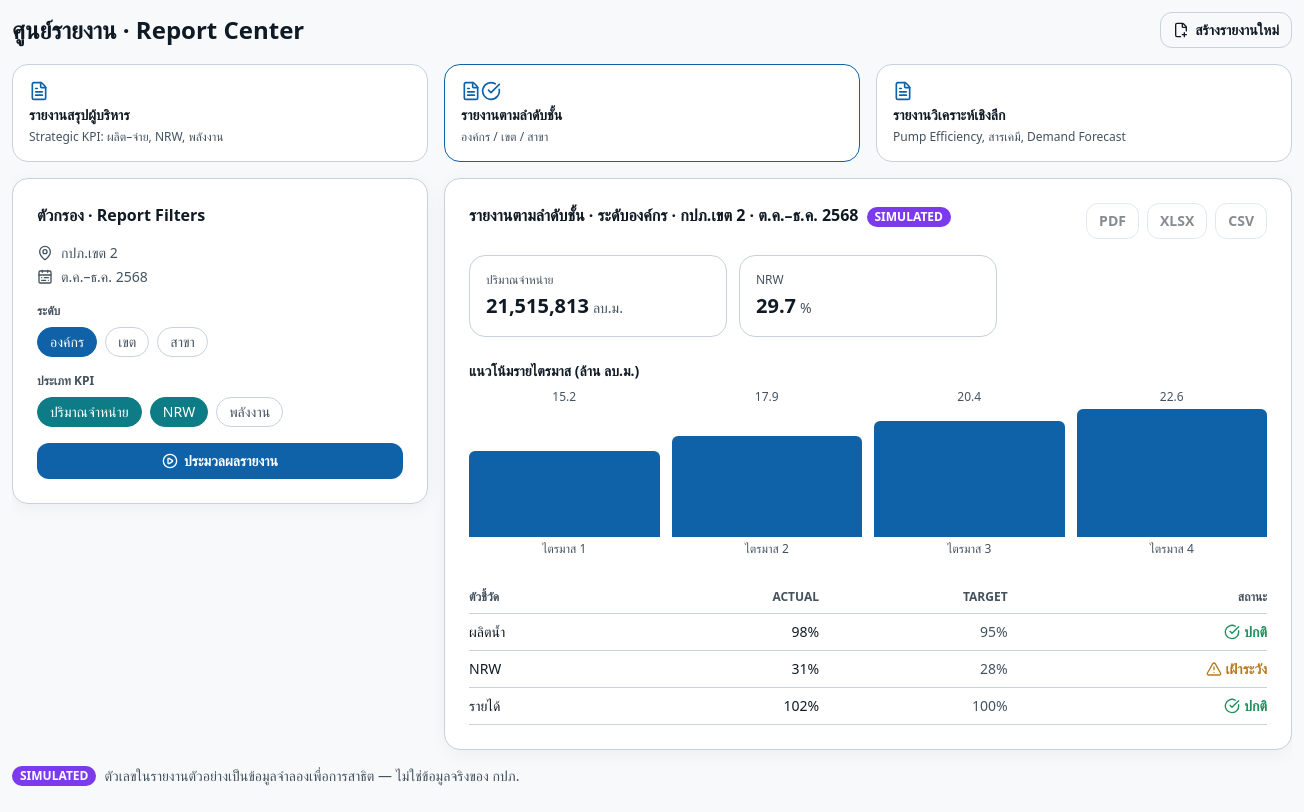
Scenario: ReportCenterScreen › holds a level change pending, then reflects it in the report header on generate
Expected: the heading "ระดับองค์กร" is shown, [469,203,951,227]
Click the radio button labelled "สาขา": (183, 342) [157,327,208,357]
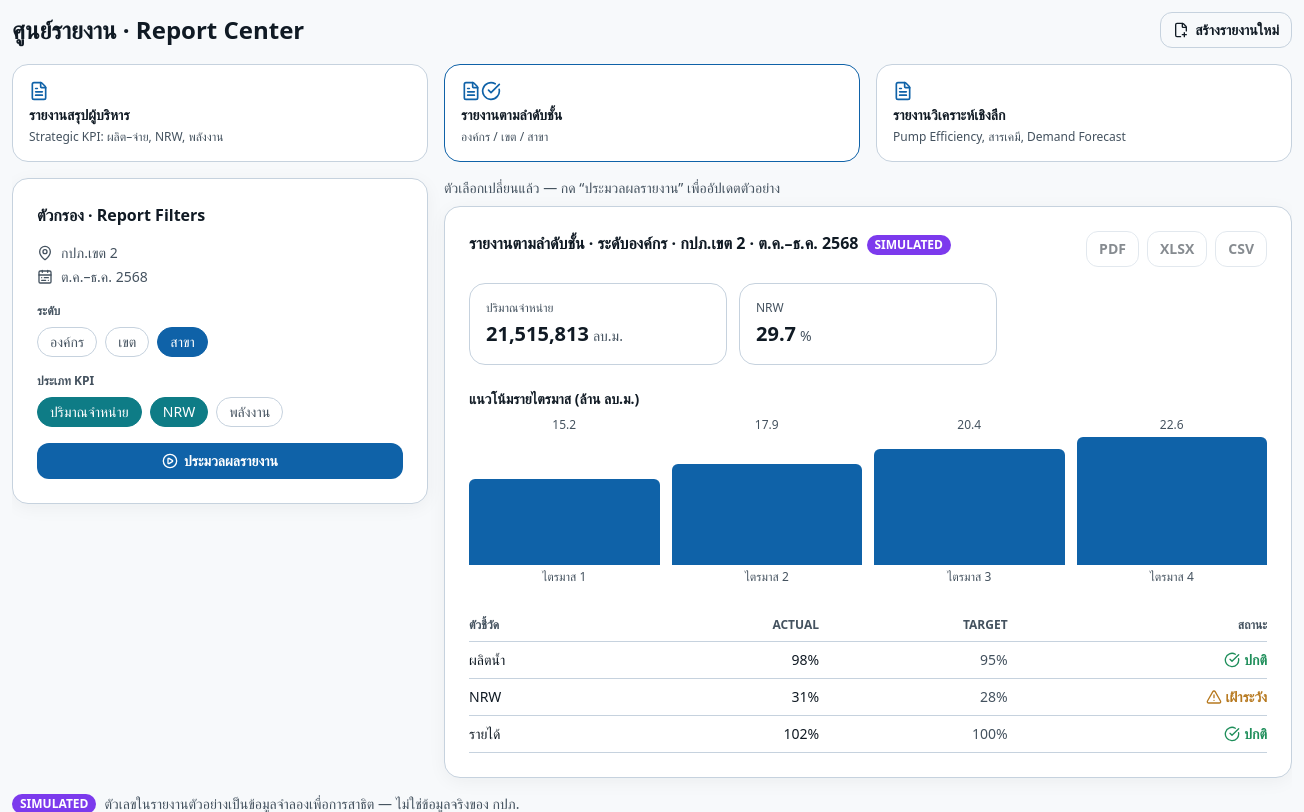
Expected: the heading "ระดับองค์กร" is shown, [469,231,951,255]
Now the message "ตัวเลือกเปลี่ยนแล้ว — กด “ประมวลผลรายงาน” เพื่ออัปเดตตัวอย่าง" is shown, box [444,178,780,197]
Click the button "ประมวลผลรายงาน": (220, 461) [37,443,403,479]
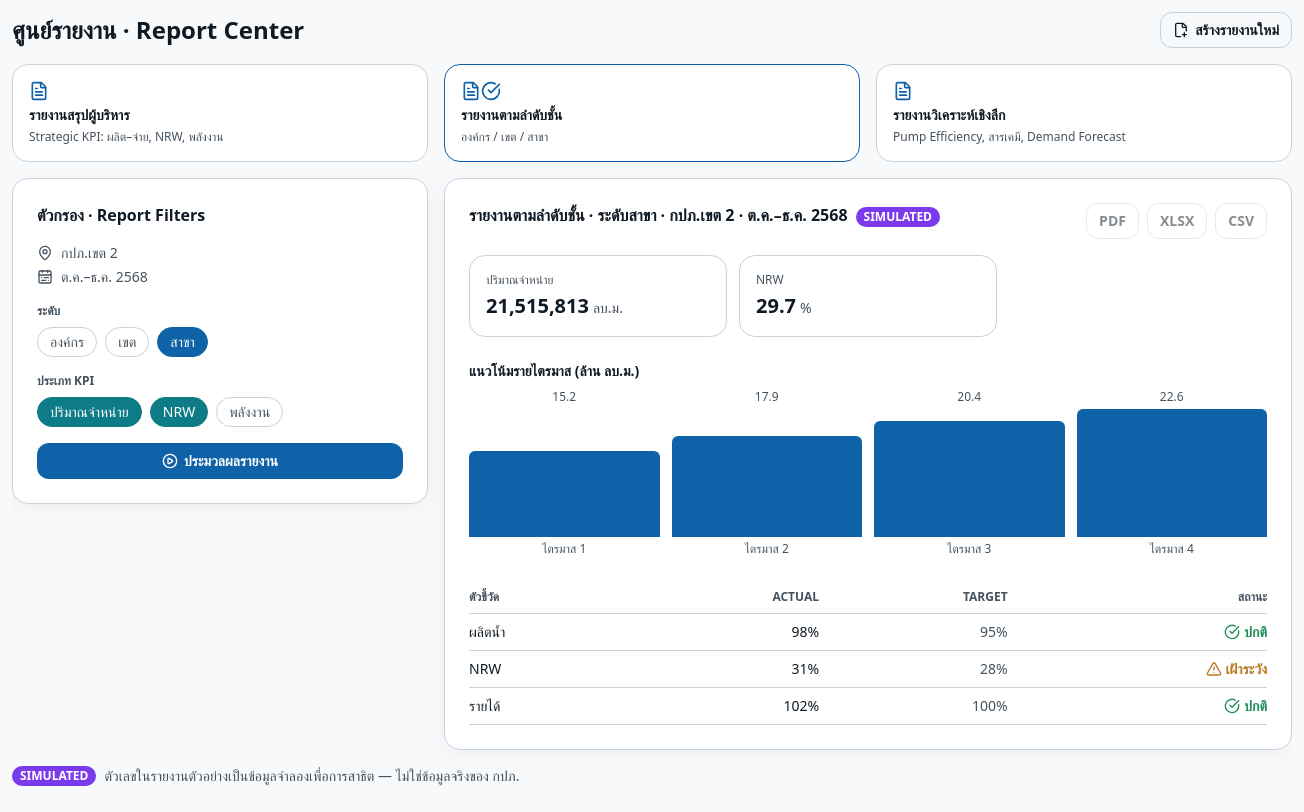
Now the heading "ระดับสาขา" is shown, box [469,203,940,227]
Now the message with test id "report-dirty" is gone
